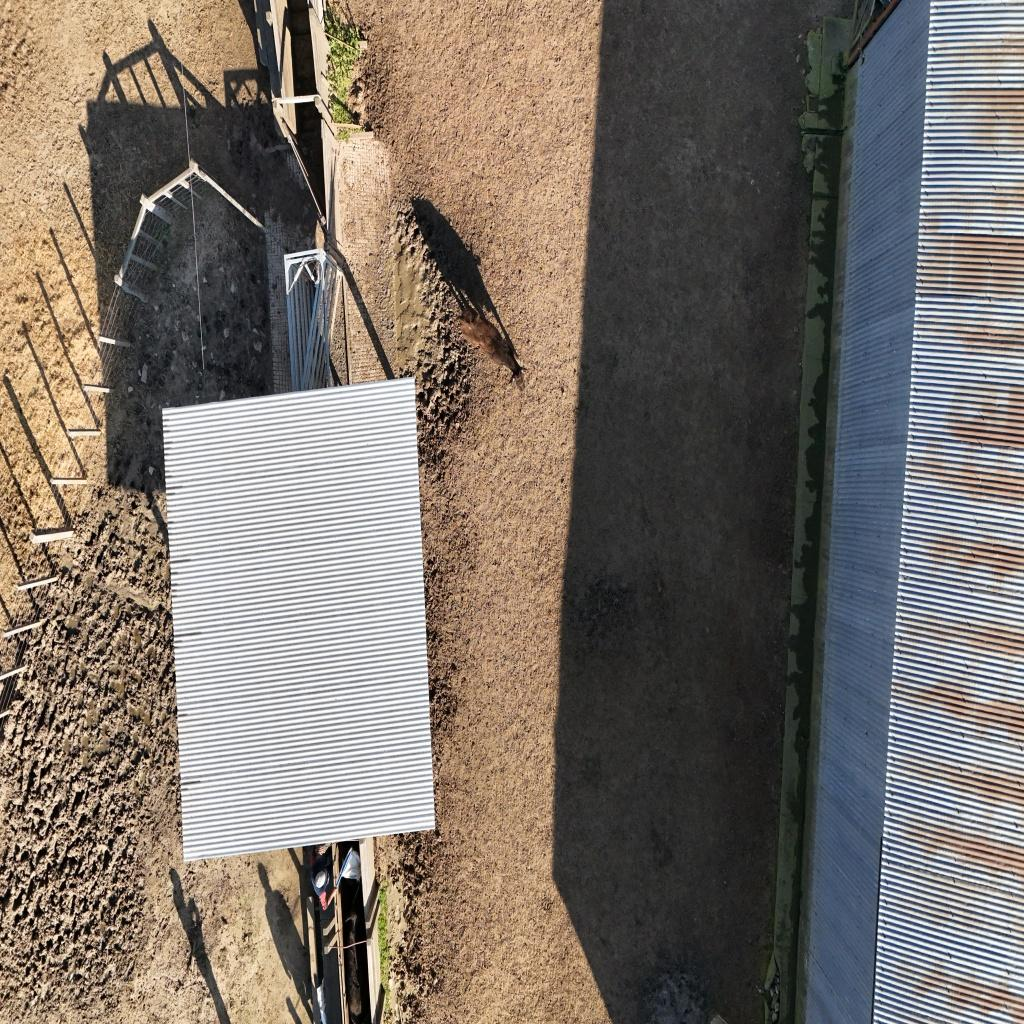cow: (458, 298, 526, 393)
